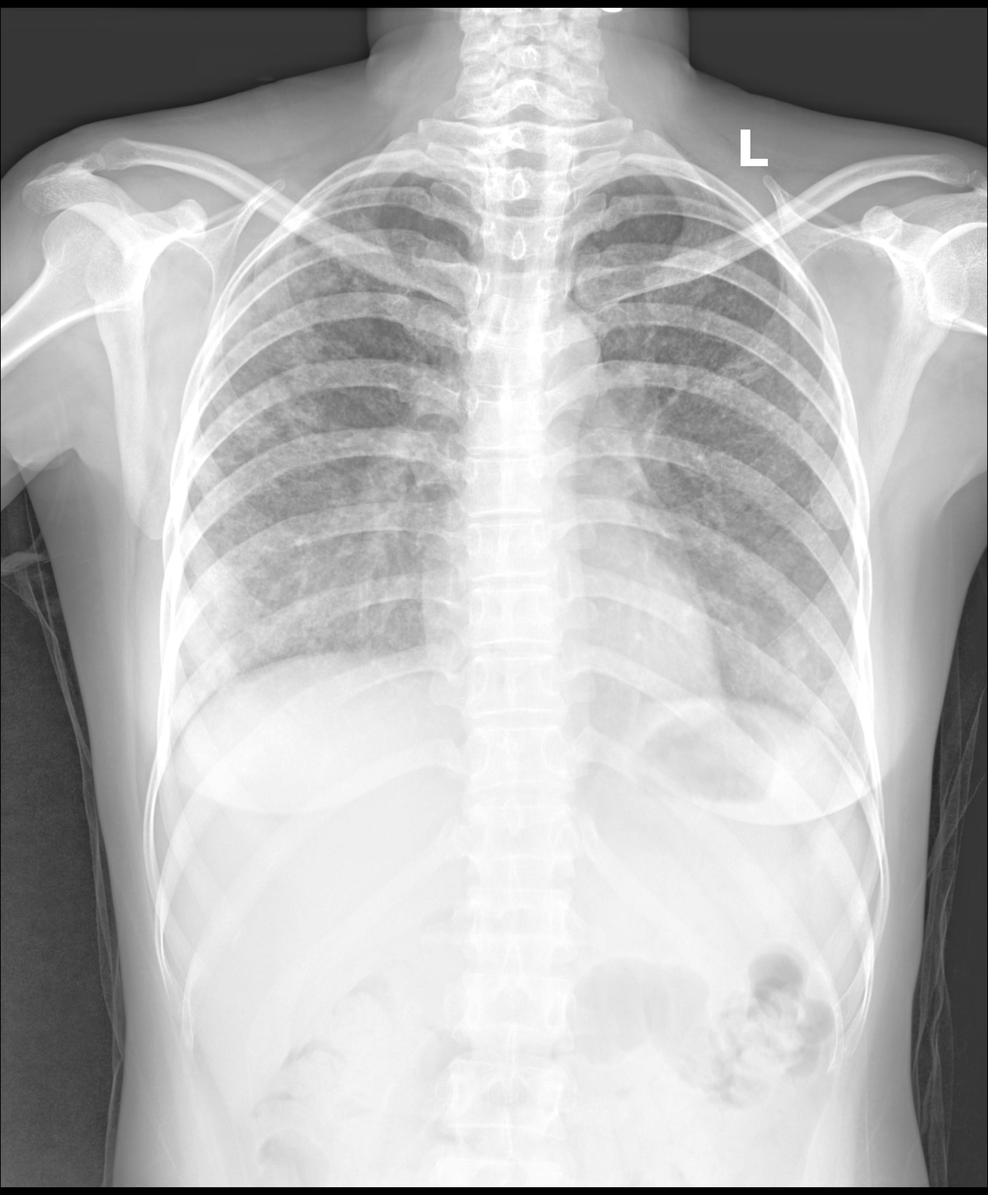Pulmonary fibrosis: (180, 187, 451, 715)
